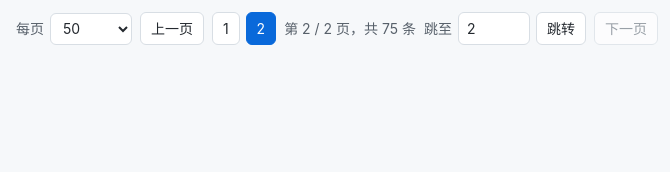
Test case: AppPagination › clamps input jumps to the available page range
Replace the text in the number field named "跳转页码" with "99": [494, 28] box [458,12,530,45]
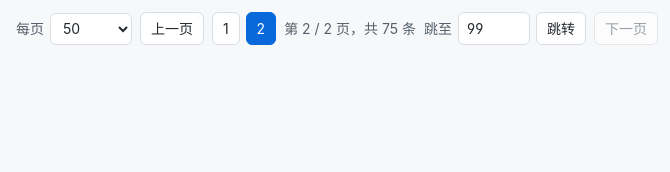
Submit the form, box [424,12,586,45]
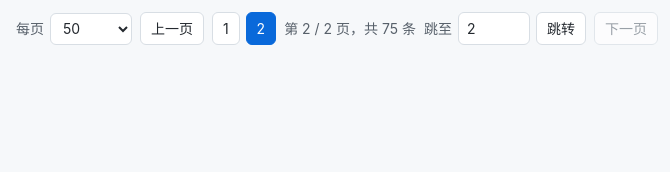
Expected: the number field named "跳转页码" holds "2", [458,12,530,45]
